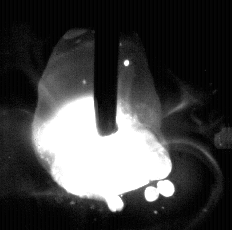arame: (95, 0, 119, 136)
poca: (31, 0, 167, 230)
